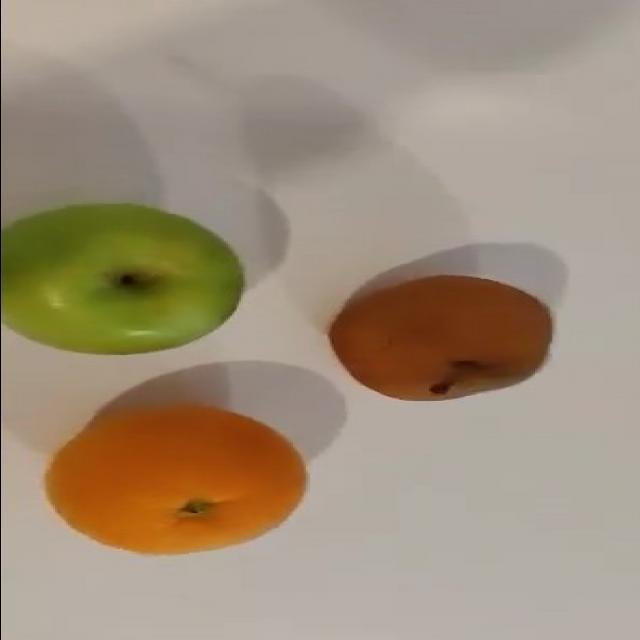Apple: (0, 201, 245, 355)
Orange: (43, 401, 308, 555)
